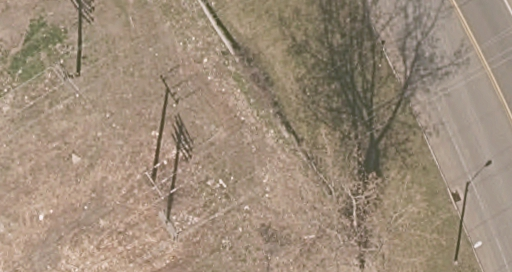DT: (51, 60, 83, 95), (142, 168, 168, 199)
